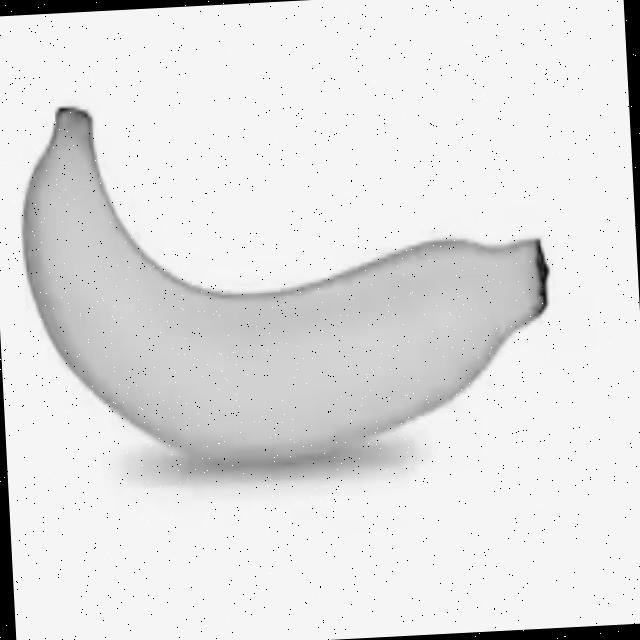Ripe: (15, 77, 562, 480)
